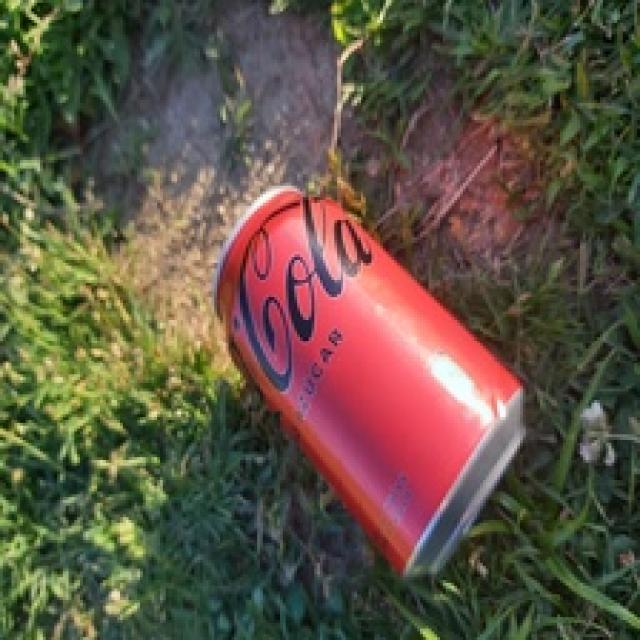recyclable: (208, 182, 526, 578)
